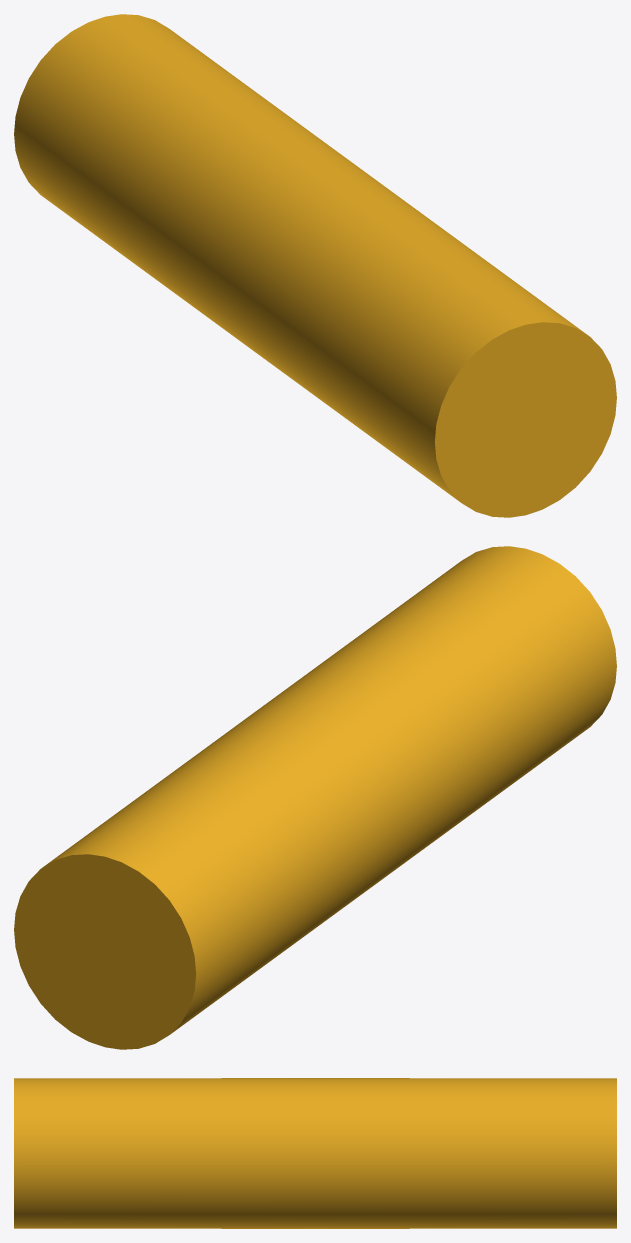
The model's file is object_for_bachelor.fbx.
3 views of the same model, one above another, from view 1: azimuth 30°, elevation 25°; view 2: azimuth 150°, elevation 25°; view 3: azimuth 270°, elevation 25° (orthographic). The views are drawn at different scales.
Parts seen in each view (by area): view 1: Body1; view 2: Body1; view 3: Body1.
Boxes of the visible parts, x1,y1,x2,y2 form: Body1: (14,14,616,517); Body1: (14,546,616,1049); Body1: (14,1078,616,1228).
Size of the model in its own units: 100 by 100 by 400.
